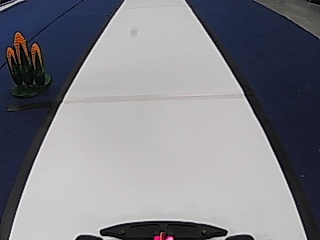corn: (4, 32, 51, 89)
